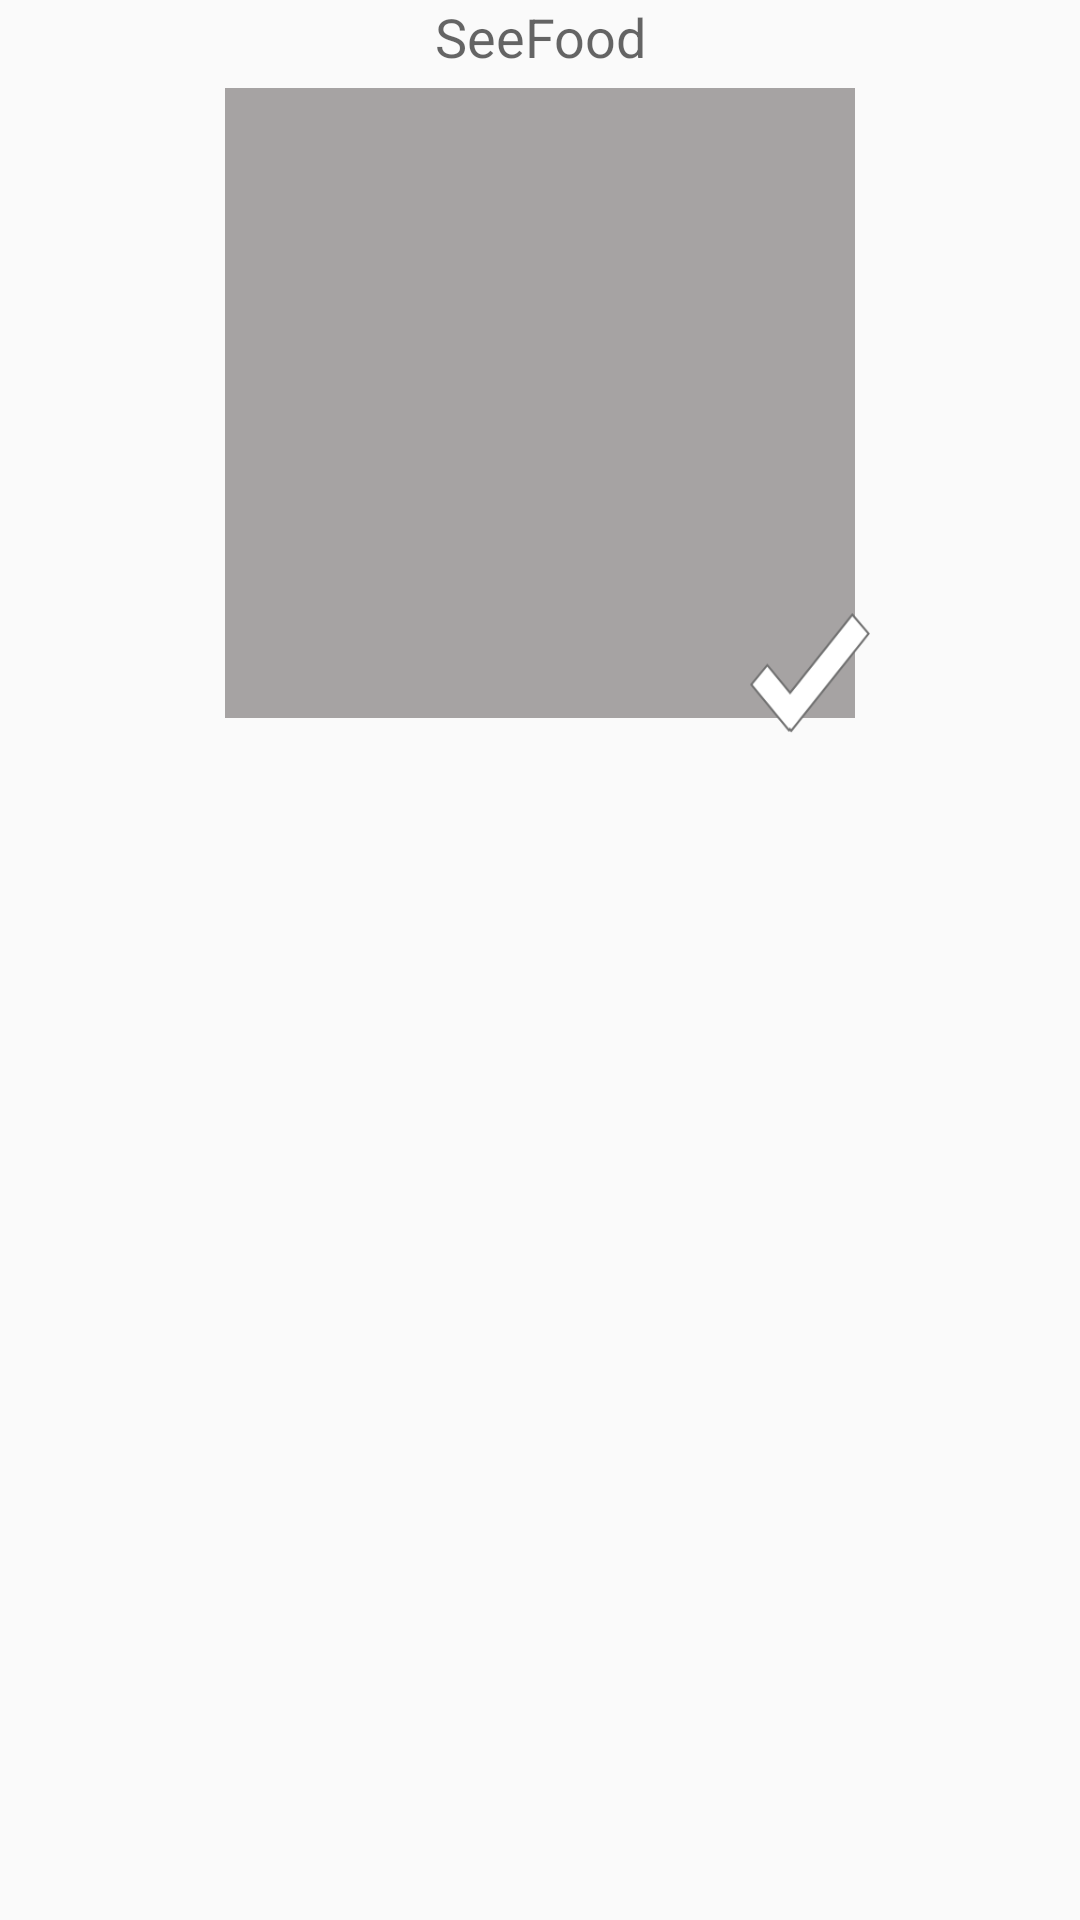

Screen size 1080*1920. Icon name, then its center in pixels as (x,y):
checkmark: (810,673)
